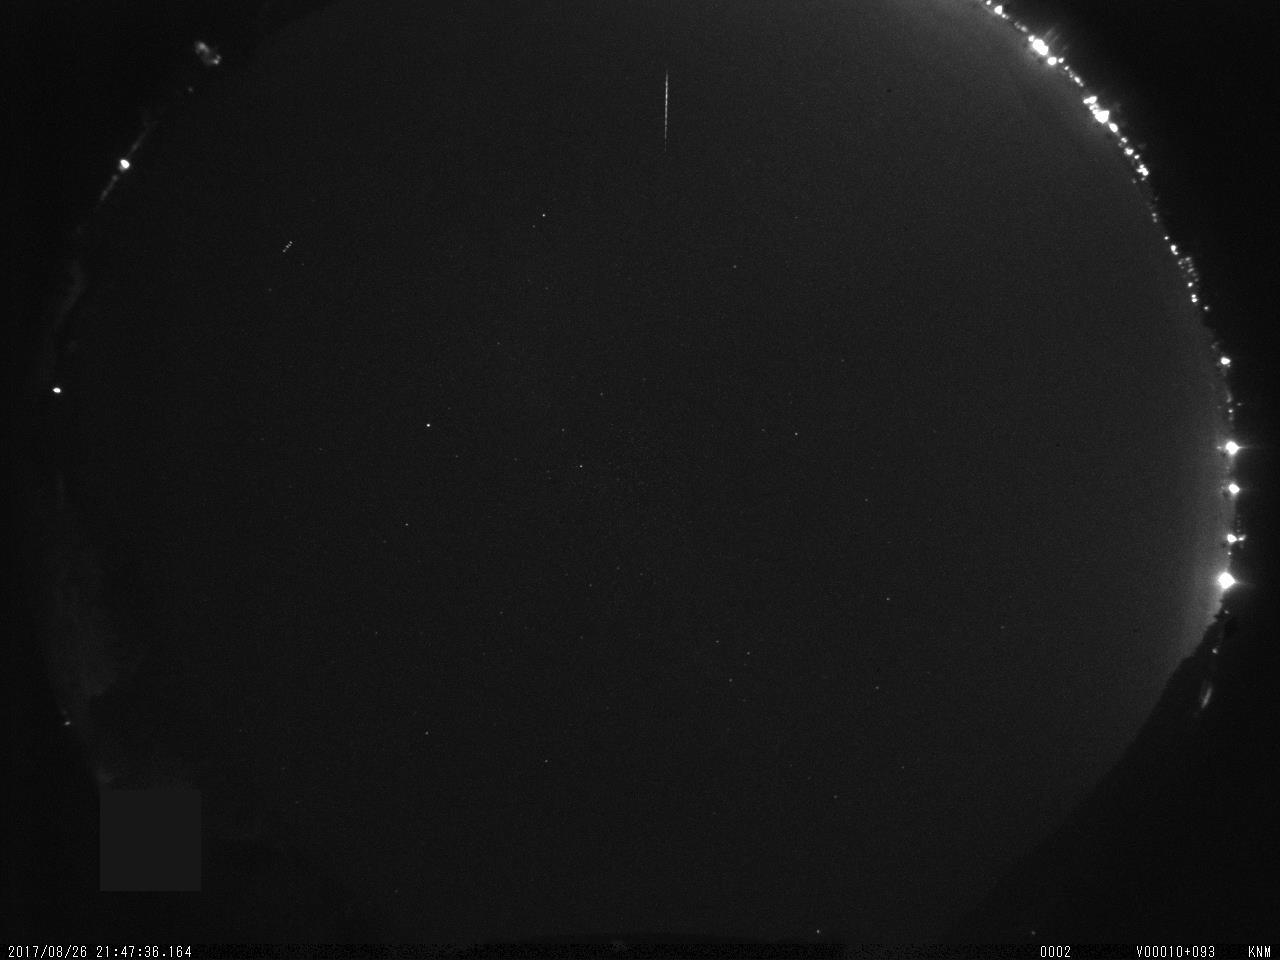meteor: (654, 71, 680, 146)
